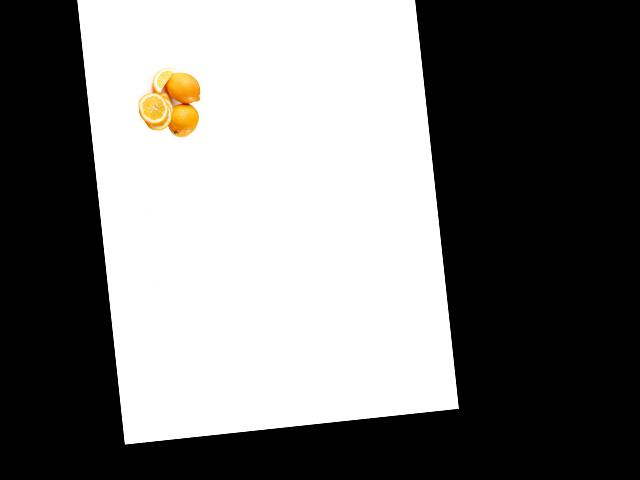lemon: (167, 98, 201, 137)
